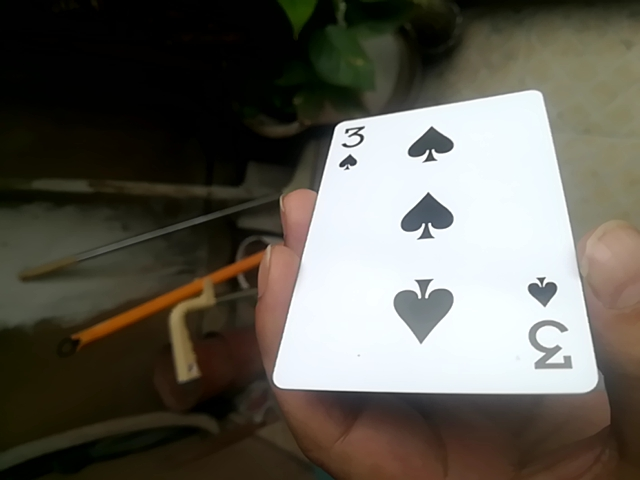ht 3: (267, 87, 588, 399)
